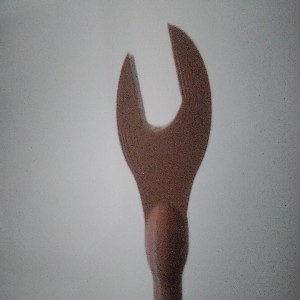spanner: (115, 23, 212, 300)
